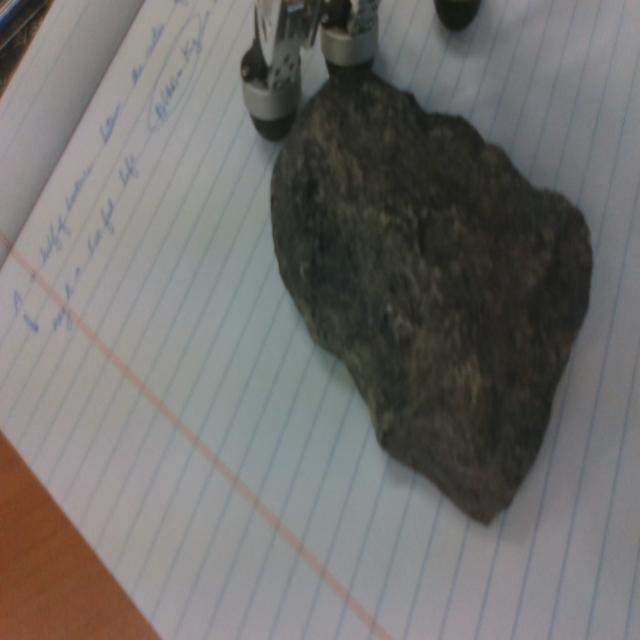stone: (270, 69, 593, 526)
